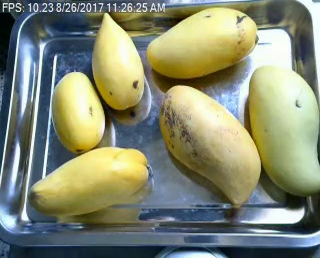Mango: (159, 86, 262, 204), (250, 65, 320, 193), (30, 146, 148, 215), (146, 7, 256, 76), (91, 11, 146, 107), (52, 70, 106, 151)
